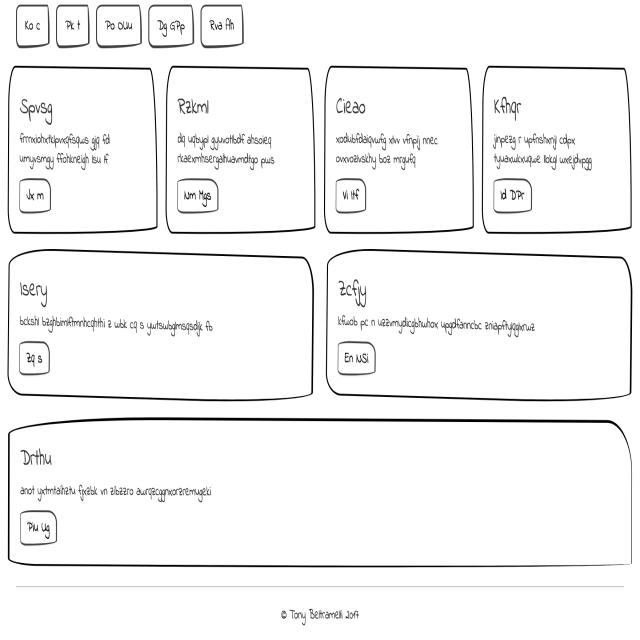Button: (176, 179, 244, 220), (334, 340, 384, 379), (16, 180, 65, 217), (20, 506, 60, 550), (493, 179, 534, 218), (17, 339, 53, 378), (331, 175, 368, 212)
Card: (3, 418, 634, 570), (326, 244, 634, 406), (5, 250, 317, 407), (323, 60, 478, 240), (163, 62, 320, 238), (6, 67, 159, 241), (482, 68, 633, 242)
Footer: (2, 580, 640, 635)
Heading 6: (12, 266, 56, 310), (175, 88, 221, 125), (18, 92, 59, 128), (492, 87, 532, 123), (18, 441, 54, 480), (336, 270, 369, 312), (332, 88, 368, 125)
Navigation Bar: (9, 1, 253, 53)
Paragraph: (333, 308, 538, 338), (16, 316, 221, 344), (17, 474, 213, 502), (493, 126, 601, 172), (175, 128, 279, 172), (17, 131, 118, 174), (336, 129, 441, 169)
